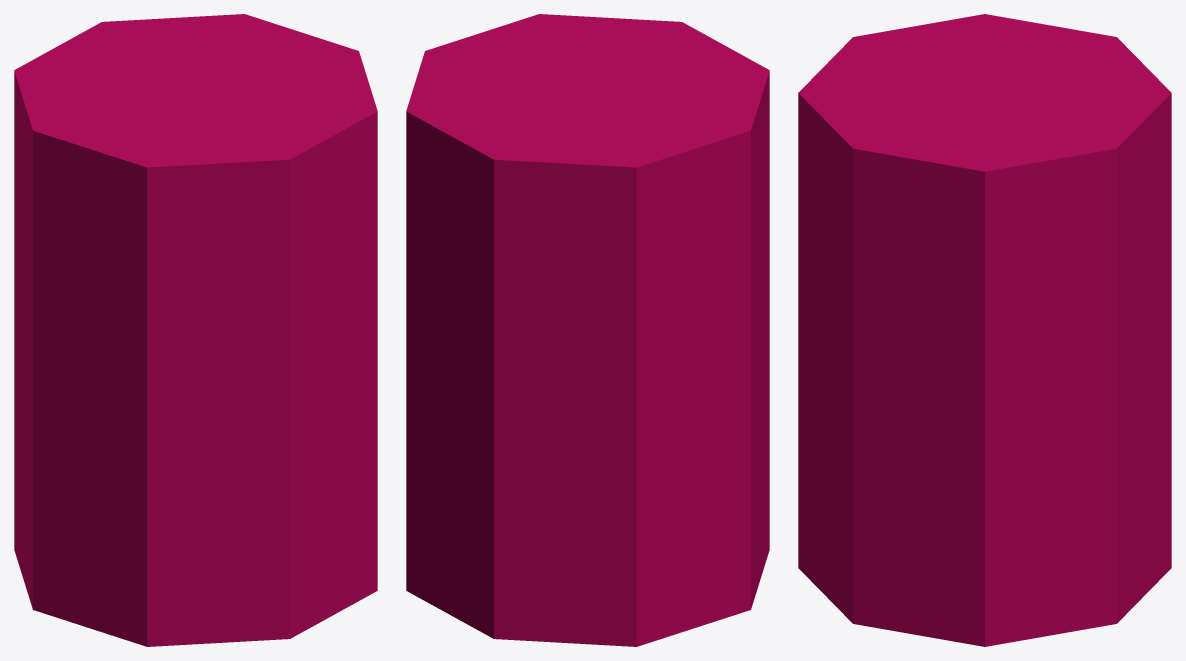
File: MyModel.fbx
3 views of the same model, side by side, from view 1: azimuth 30°, elevation 25°; view 2: azimuth 150°, elevation 25°; view 3: azimuth 270°, elevation 25° (orthographic).
Parts seen in each view (by area): view 1: pCylinder1; view 2: pCylinder1; view 3: pCylinder1.
Boxes of the visible parts, x1=… form: pCylinder1: x1=14, y1=14, x2=377, y2=646; pCylinder1: x1=406, y1=14, x2=769, y2=646; pCylinder1: x1=798, y1=14, x2=1171, y2=646.
Bounding box in the file's own units: 1 × 1.41 × 1.
